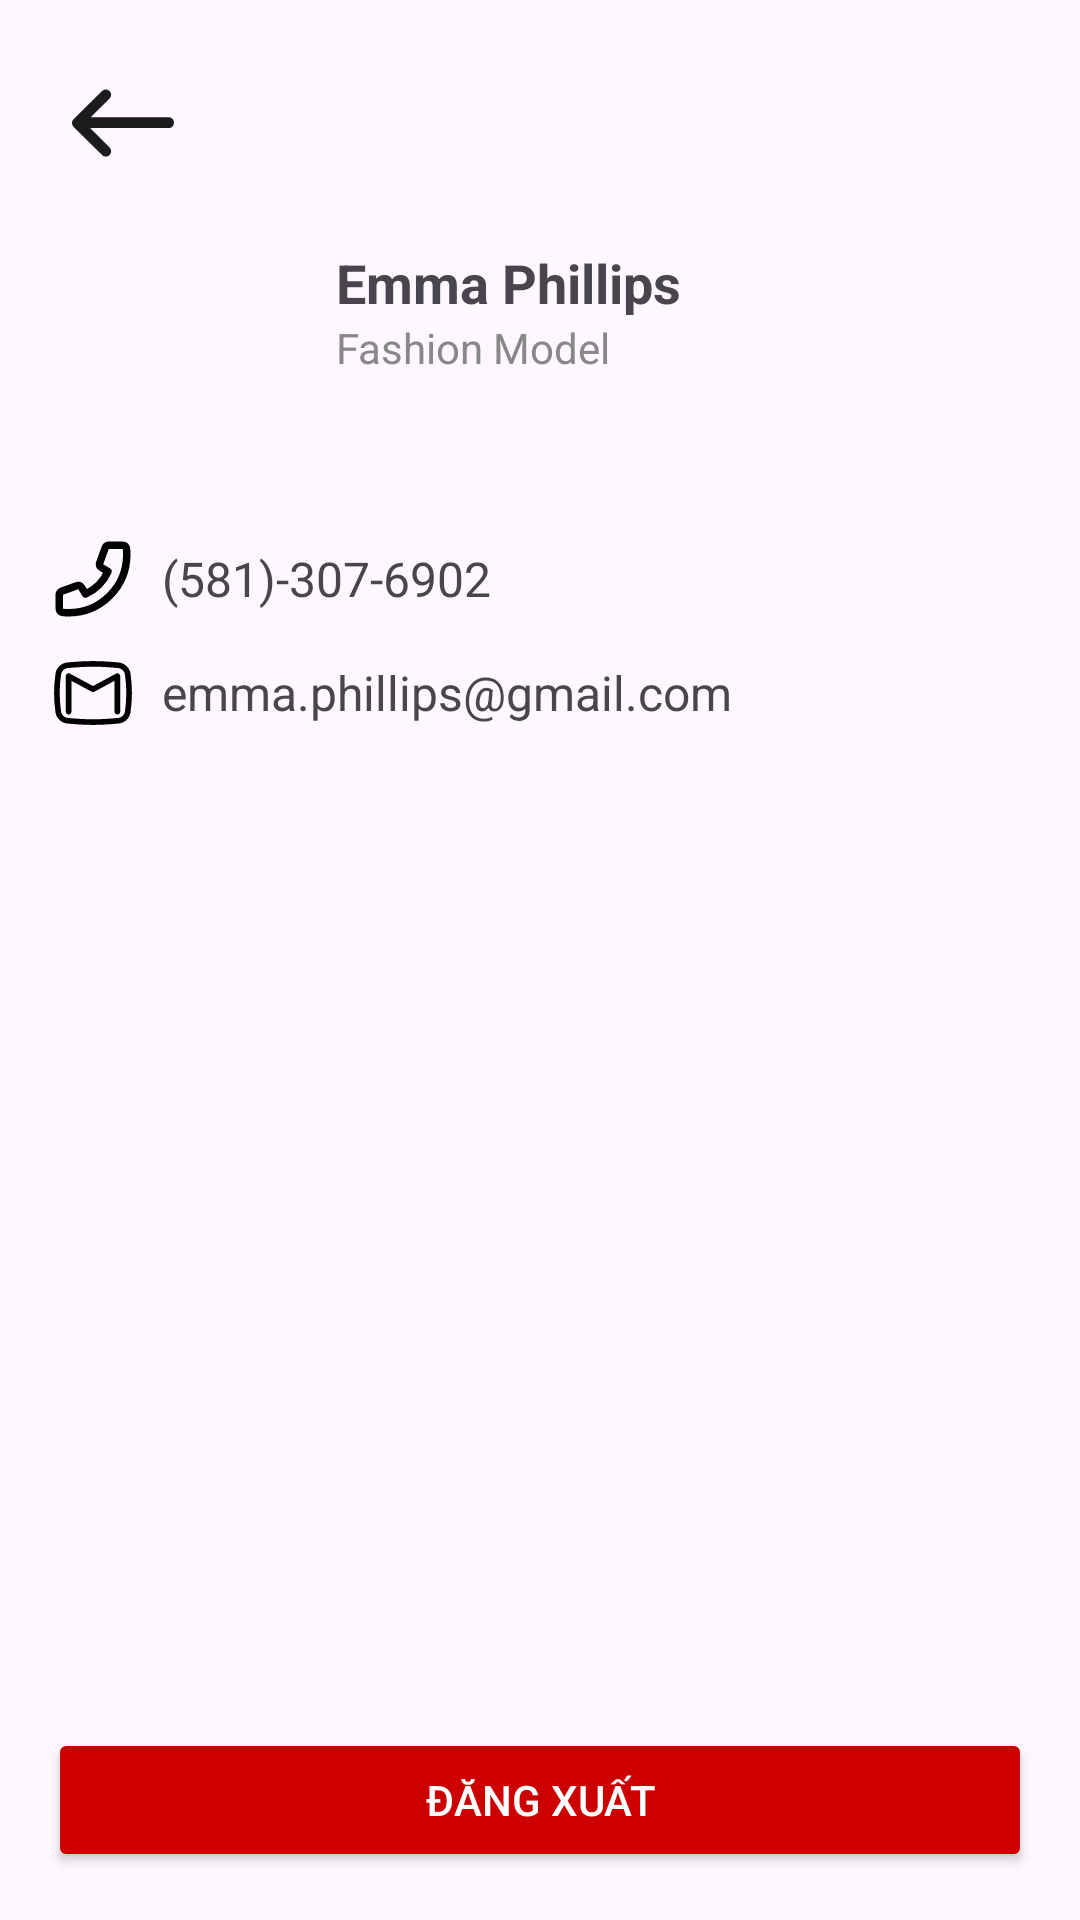

Screen size 1080w x 1920h. Icon name, then its center in pixels as (x=x, y=y):
left arrow: (x=123, y=123)
phone: (x=93, y=579)
